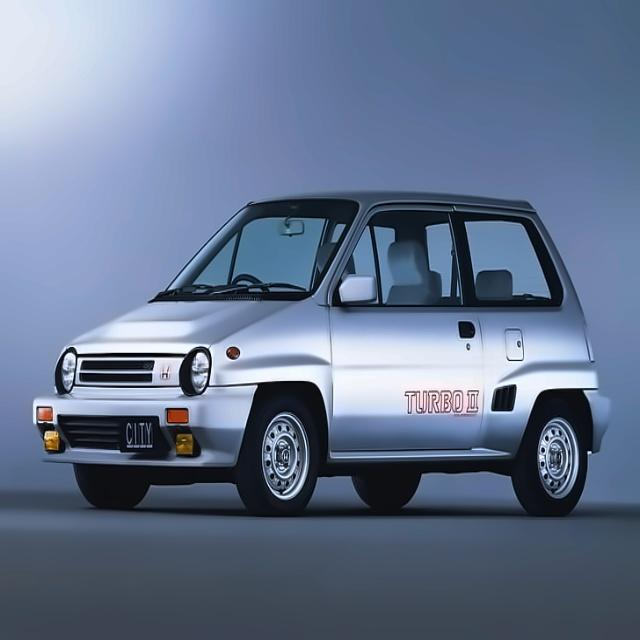Car hood: (65, 298, 295, 357)
Fender - -F-L-: (209, 291, 333, 458)
Fender - -R-L-: (484, 304, 598, 463)
Front bumper: (19, 385, 261, 475)
Headlight - -L-: (174, 343, 215, 401)
Headlight - -R-: (52, 343, 85, 398)
Passenger-s door - -F-L-: (332, 195, 487, 454)
Rear bumper: (578, 383, 626, 462)
Side bumper - -L-: (324, 443, 520, 470)
Side mirror - -L-: (329, 267, 380, 312)
